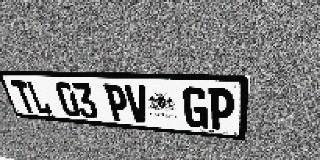0: (54, 82, 81, 117)
3: (72, 83, 99, 119)
G: (183, 87, 208, 129)
L: (25, 81, 53, 115)
P: (208, 88, 235, 131), (103, 84, 130, 122)
T: (10, 80, 38, 114)
V: (124, 85, 150, 124)
